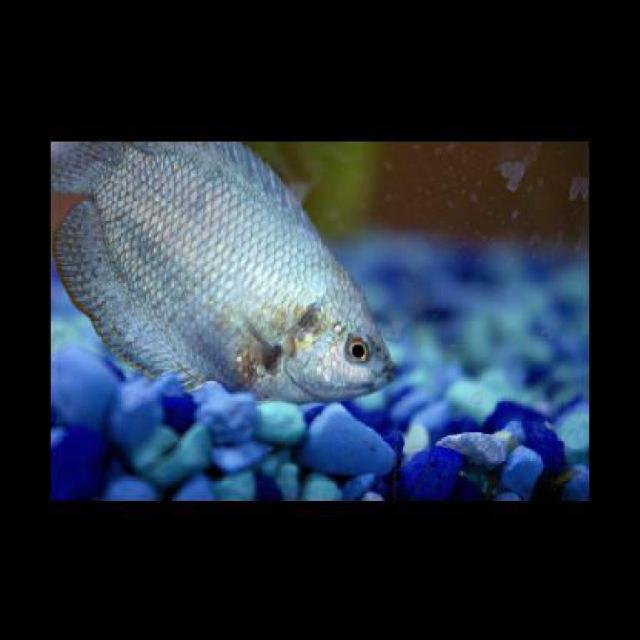Gourami: (55, 142, 398, 403)
